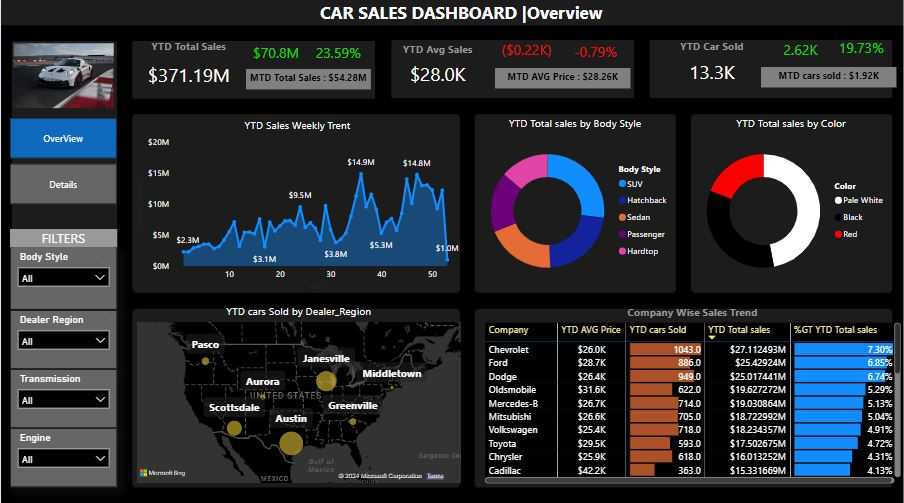

This screenshot's page, from the dashboard's own definition file:
{"tool":"powerbi","page":{"name":"OverView","canvas":[1280,720],"ordinal":0},"visuals":[{"type":"card","title":"YTD Total Sales","fields":{"Values":["car_data.YTD Total sales"]},"box":[185.9,59,160.9,84],"z":0},{"type":"card","fields":{"Values":["Table.Sales Difference"]},"box":[345,59,91.2,42.9],"z":1000},{"type":"card","fields":{"Values":["Table.YOY Sales Growth"]},"box":[432.6,59,91.2,42.9],"z":2000},{"type":"card","fields":{"Values":["Table.MTD KPI"]},"box":[346.8,101.9,177,28.6],"z":3000},{"type":"card","title":"YTD Avg Sales","fields":{"Values":["Table.YTD AVG Price"]},"box":[538.1,64.4,160.9,73.3],"z":4000},{"type":"card","fields":{"Values":["Table.Avg Price Diff"]},"box":[699.9,59,89.4,32.3],"z":5000},{"type":"card","fields":{"Values":["Table.YOY AVG Price Growth"]},"box":[796.9,59,91.3,38],"z":6000},{"type":"card","fields":{"Values":["Table.MTD AVG Price KPI"]},"box":[699.9,100.8,192.1,28.5],"z":7000},{"type":"card","title":"YTD Car Sold","fields":{"Values":["Table.YTD cars Sold"]},"box":[926.2,59,161.7,74.2],"z":8000},{"type":"card","fields":{"Values":["Table.Car Sold Diff"]},"box":[1087.9,59,89.4,32.3],"z":9000},{"type":"card","fields":{"Values":["Table.YOY Car Sold Growth"]},"box":[1173.5,49.5,91.3,47.5],"z":10000},{"type":"card","fields":{"Values":["Table.MTD Cars Sold Kpi"]},"box":[1076.5,98.9,192.1,28.5],"z":11000},{"type":"areaChart","title":"YTD Sales Weekly Trent","fields":{"Category":["Calendar.Week"],"Y":["Sum(car_data.Price ($))"]},"box":[185.9,170.9,469.1,248.8],"z":12000},{"type":"donutChart","fields":{"Category":["car_data.Body Style"],"Y":["Table.YTD Total sales"]},"box":[669.5,169.3,289.1,249.2],"z":13000},{"type":"donutChart","fields":{"Y":["Table.YTD Total sales"],"Category":["car_data.Color"]},"box":[975.7,169.3,289.1,249.2],"z":14000},{"type":"map","fields":{"Category":["car_data.Dealer_Region"],"Size":["Table.YTD cars Sold"]},"box":[186.4,435.5,469.8,258.7],"z":15000},{"type":"tableEx","title":"Company Wise Sales Trend","fields":{"Values":["car_data.Company","Table.YTD AVG Price","Table.YTD cars Sold","Table.YTD Total sales","Divide(Table.YTD Total sales, ScopedEval(Table.YTD Total sales, []))"]},"box":[680.5,436.2,599.5,257.8],"z":16000},{"type":"textbox","box":[13.3,0,1255.3,49.5],"z":17000},{"type":"slicer","fields":{"Values":["car_data.Body Style"]},"box":[12.8,354.3,151.7,89.3],"z":18000},{"type":"slicer","fields":{"Values":["car_data.Dealer_Region"]},"box":[13.3,443.2,152.2,83.7],"z":19000},{"type":"slicer","fields":{"Values":["car_data.Transmission"]},"box":[13.3,526.8,152.2,83.7],"z":20000},{"type":"slicer","fields":{"Values":["car_data.Engine"]},"box":[13.3,610.5,152.2,83.7],"z":21000},{"type":"textbox","title":"FILTERS","box":[12.8,328.8,151.7,25.5],"z":22000},{"type":"pageNavigator","box":[12.8,171.5,151.7,123.3],"z":22001},{"type":"image","box":[12.8,59.5,151.7,104.9],"z":22002}]}

Visuals, with their boxes in screenshot pixels (x1, y1, x2, y2), scaled from the page's 1280x720 canvas onto the 904x503 screenshot:
"YTD Total Sales" card: left=131, top=41, right=245, bottom=100
card - Table.Sales Difference: left=244, top=41, right=308, bottom=71
card - Table.YOY Sales Growth: left=306, top=41, right=370, bottom=71
card - Table.MTD KPI: left=245, top=71, right=370, bottom=91
"YTD Avg Sales" card: left=380, top=45, right=494, bottom=96
card - Table.Avg Price Diff: left=494, top=41, right=557, bottom=64
card - Table.YOY AVG Price Growth: left=563, top=41, right=627, bottom=68
card - Table.MTD AVG Price KPI: left=494, top=70, right=630, bottom=90
"YTD Car Sold" card: left=654, top=41, right=768, bottom=93
card - Table.Car Sold Diff: left=768, top=41, right=831, bottom=64
card - Table.YOY Car Sold Growth: left=829, top=35, right=893, bottom=68
card - Table.MTD Cars Sold Kpi: left=760, top=69, right=896, bottom=89
"YTD Sales Weekly Trent" areaChart: left=131, top=119, right=463, bottom=293
donutChart - car_data.Body Style x Table.YTD Total sales: left=473, top=118, right=677, bottom=292
donutChart - Table.YTD Total sales x car_data.Color: left=689, top=118, right=893, bottom=292
map - car_data.Dealer_Region x Table.YTD cars Sold: left=132, top=304, right=463, bottom=485
"Company Wise Sales Trend" tableEx: left=481, top=305, right=903, bottom=485
textbox: left=9, top=0, right=896, bottom=35
slicer - car_data.Body Style: left=9, top=248, right=116, bottom=310
slicer - car_data.Dealer_Region: left=9, top=310, right=117, bottom=368
slicer - car_data.Transmission: left=9, top=368, right=117, bottom=427
slicer - car_data.Engine: left=9, top=427, right=117, bottom=485
"FILTERS" textbox: left=9, top=230, right=116, bottom=248
pageNavigator: left=9, top=120, right=116, bottom=206
image: left=9, top=42, right=116, bottom=115
